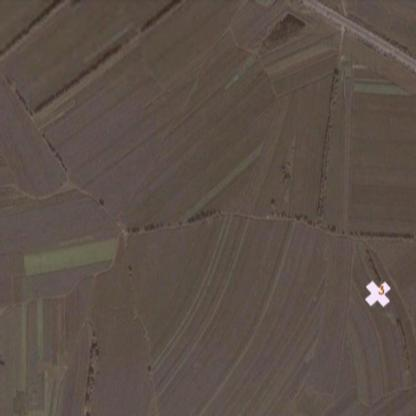3: (378, 285, 386, 296)
plus: (365, 280, 392, 308)
